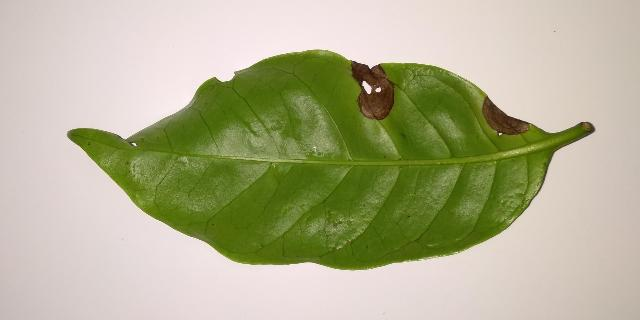rust: (351, 61, 395, 120), (482, 96, 534, 136)
